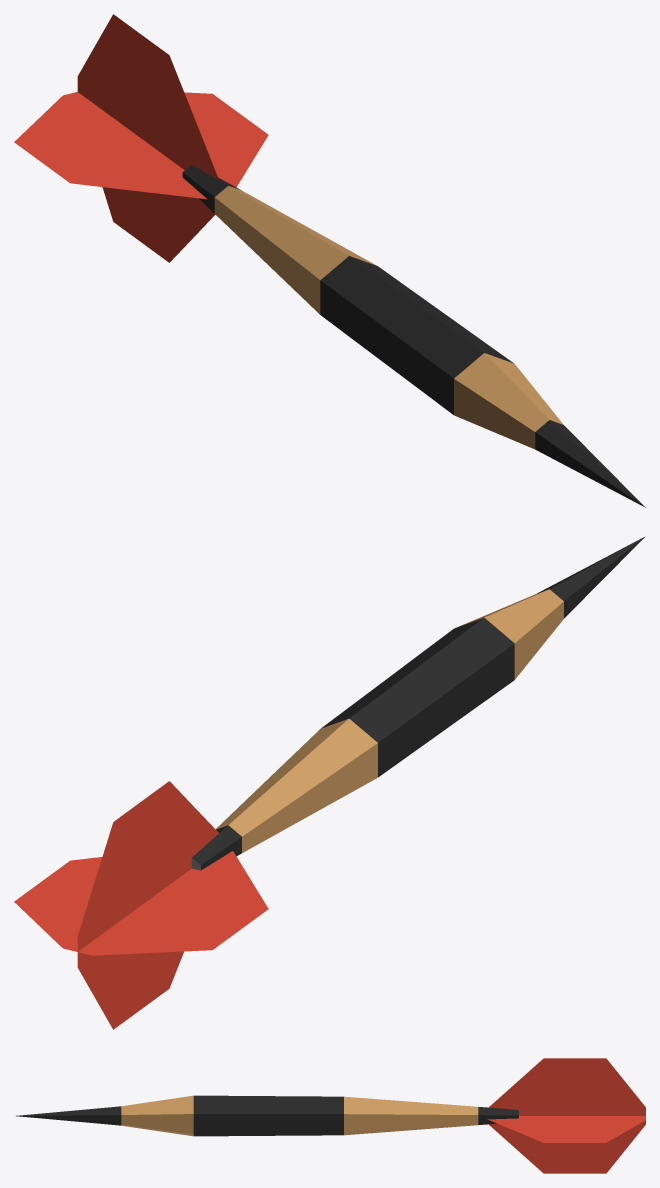
Rendered from sport_dart.fbx.
The picture shows the model from 3 angles, top to bottom: view 1: azimuth 30°, elevation 25°; view 2: azimuth 150°, elevation 25°; view 3: azimuth 270°, elevation 25°; orthographic projection. The views are drawn at different scales.
Visible parts, largest first — view 1: sport_dart; view 2: sport_dart; view 3: sport_dart.
Boxes of the visible parts, x1,y1,x2,y2 form: sport_dart: (14,14,645,507); sport_dart: (14,536,645,1029); sport_dart: (16,1058,645,1173).
Bounding box in the file's own units: 40.35 × 40.35 × 200.
